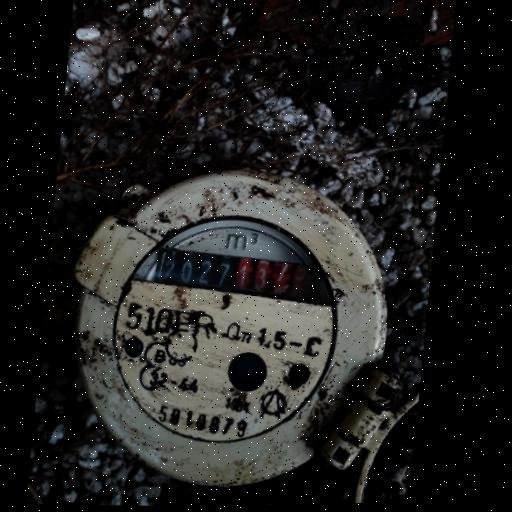0: (174, 250, 198, 285)
1: (233, 256, 254, 290)
2: (193, 251, 217, 287), (157, 248, 180, 285)
3: (250, 259, 273, 295)
7: (212, 253, 237, 289), (267, 260, 292, 296)
9: (288, 262, 310, 298)
border_water_meter_number: (152, 239, 317, 308)
